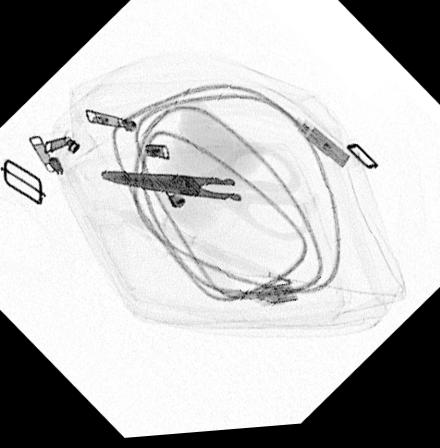Scissors: (97, 145, 314, 253)
